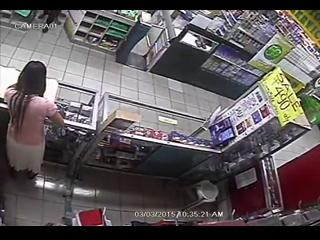Normal: (4, 60, 65, 180)
